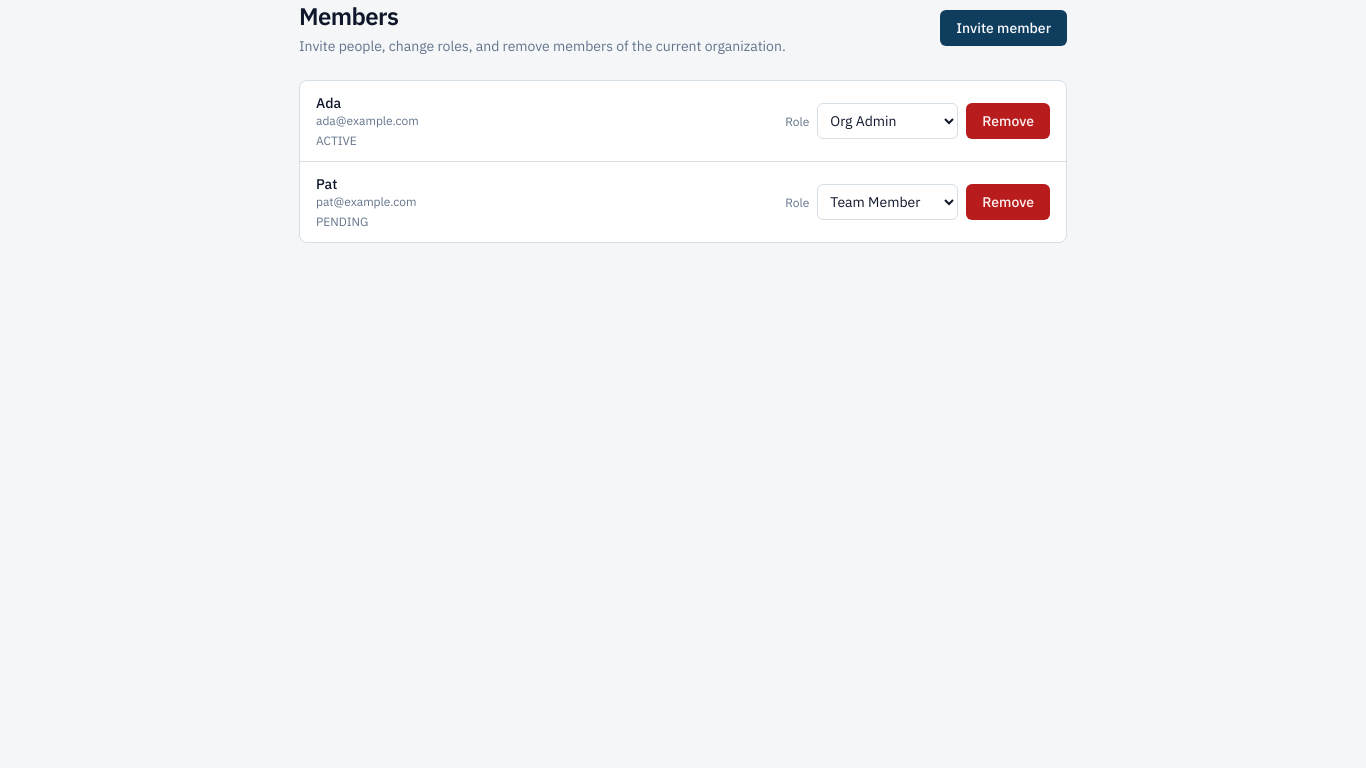
it: Members settings › sends an invite for the current organization
The image size is (1366, 768).
Check: the list item with test id "member-row-mem_admin" is shown, box [300,81,1066,162]
Click the button "Invite member" at (1004, 28), box [940,10,1067,46]
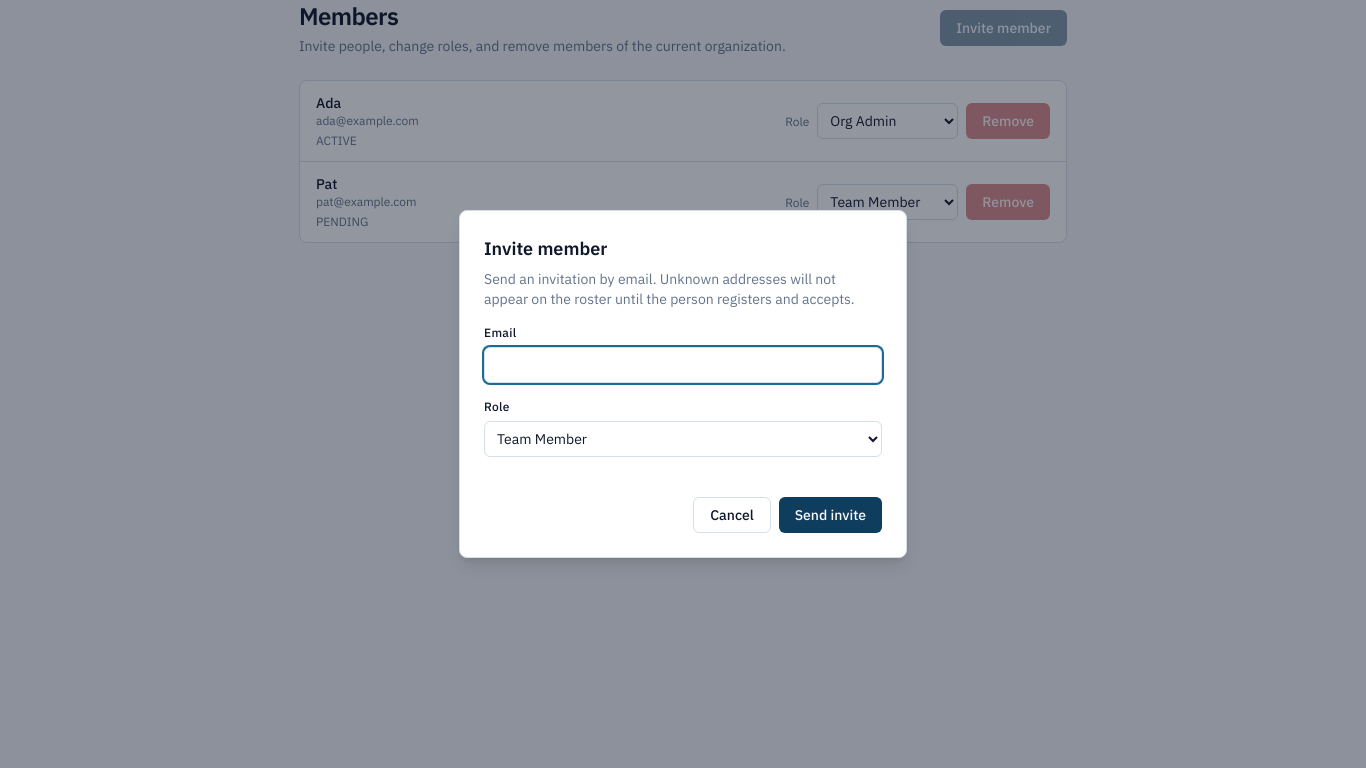
Type "new@example.com" into the field labelled "Email" at (683, 365), box [484,347,882,383]
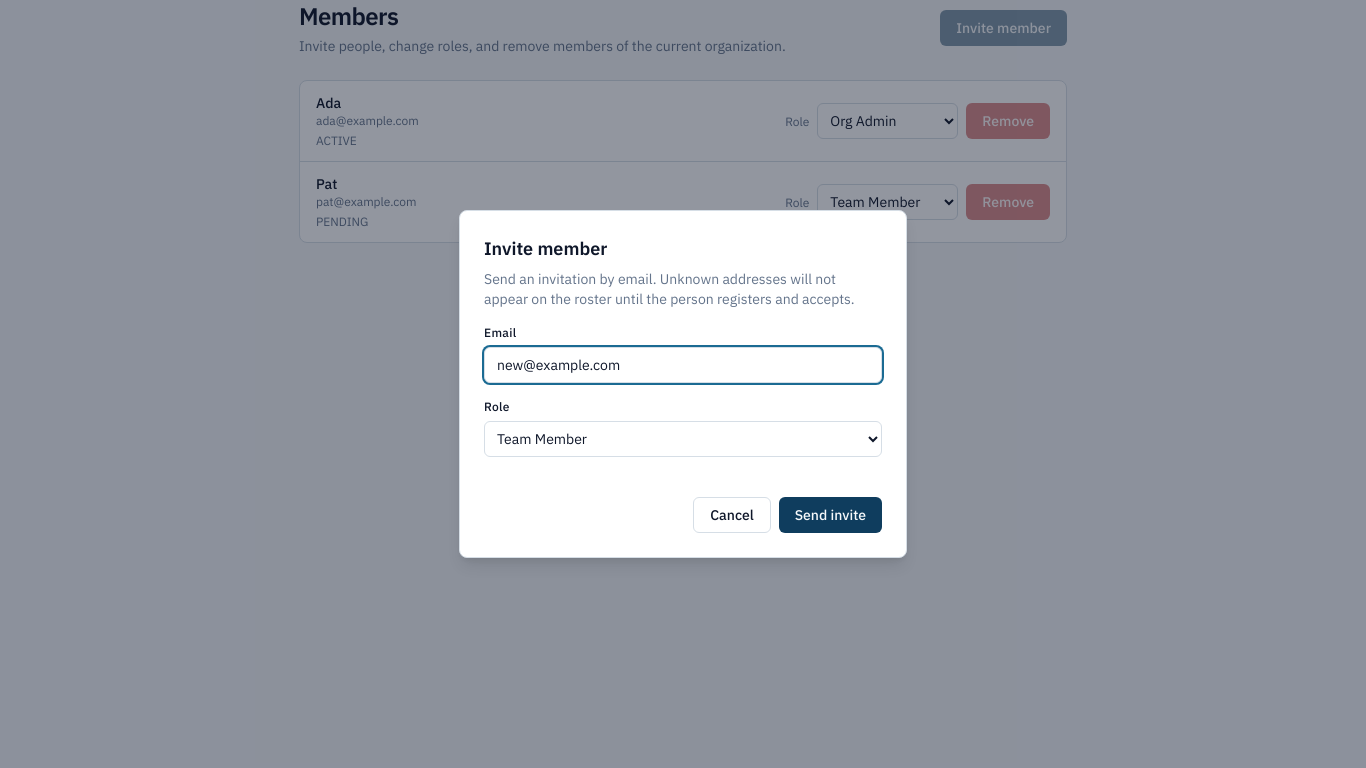
Click the button "Send invite" at (830, 515), box [779,497,882,533]
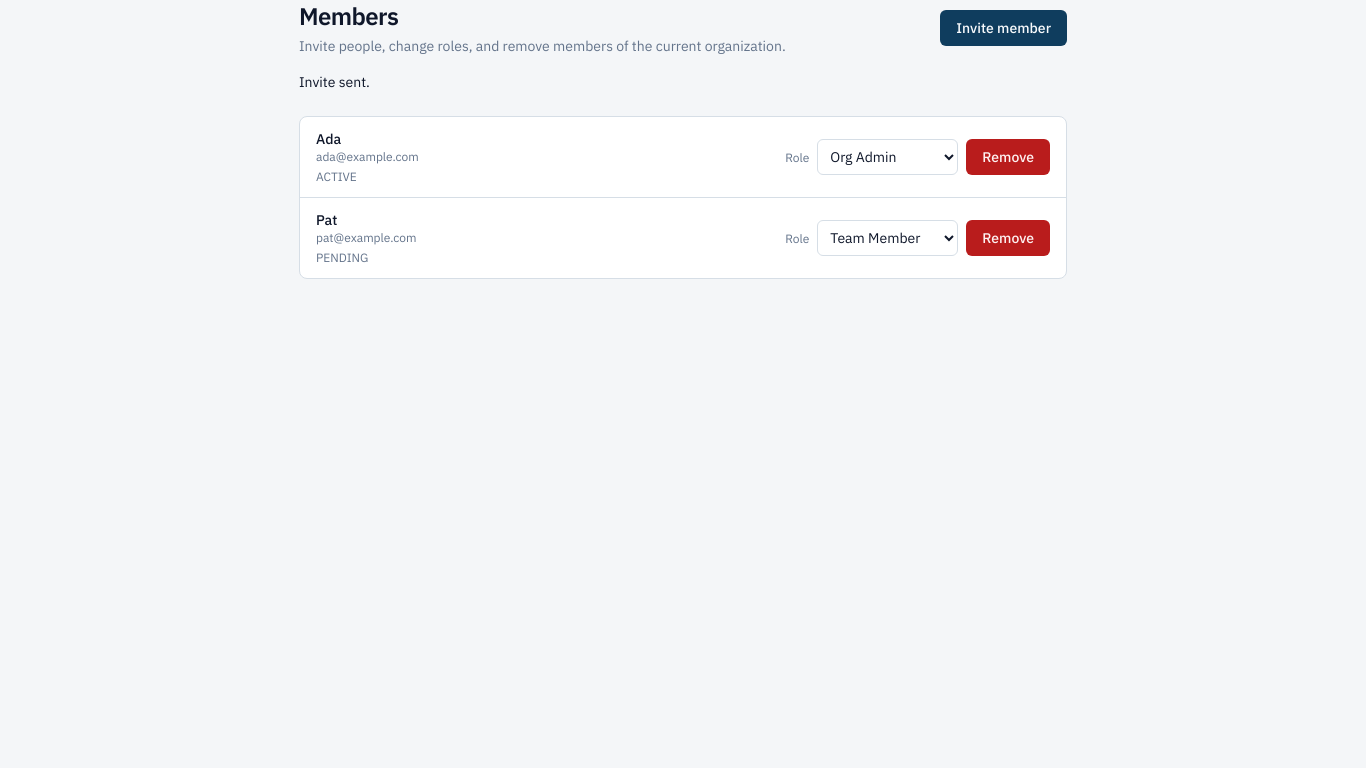
Check: the message with test id "members-success" reads "Invite sent.", box [299,73,370,91]
